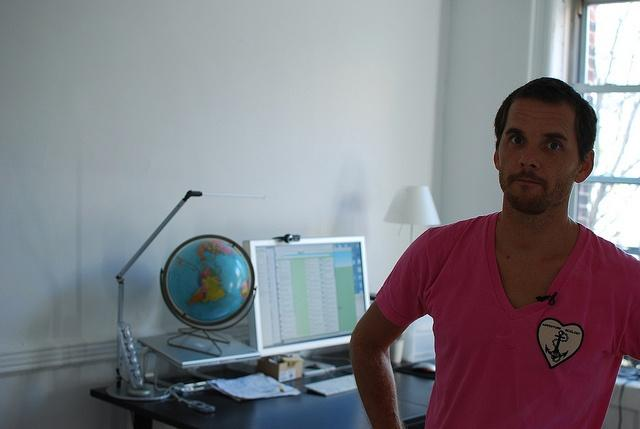AIO PC-Monitor-TV: (246, 235, 372, 356)
